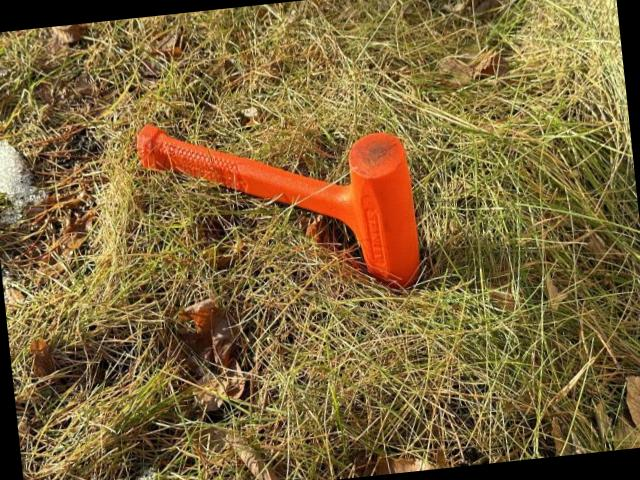hammer: (136, 96, 424, 312)
